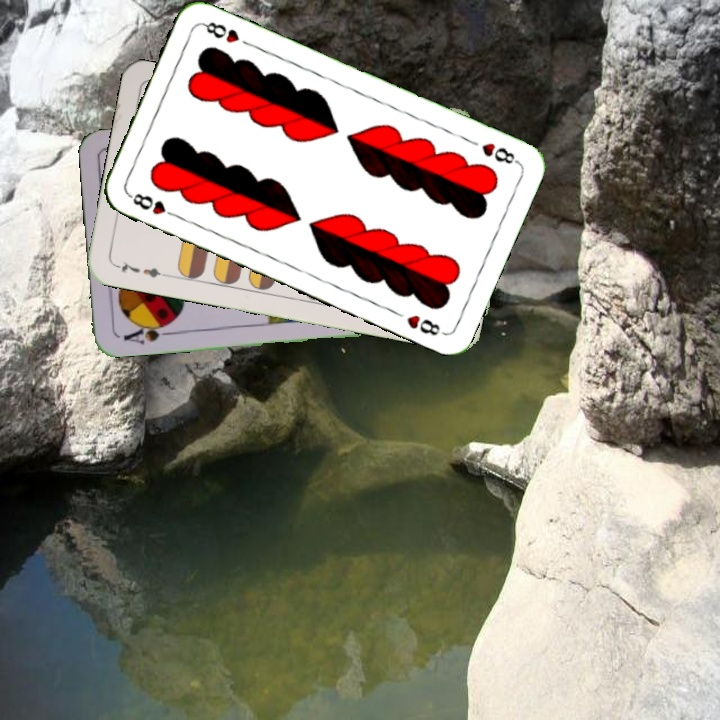E7: (111, 257, 170, 281)
H8: (125, 189, 181, 221), (477, 138, 521, 167)
SA: (119, 318, 176, 347)
